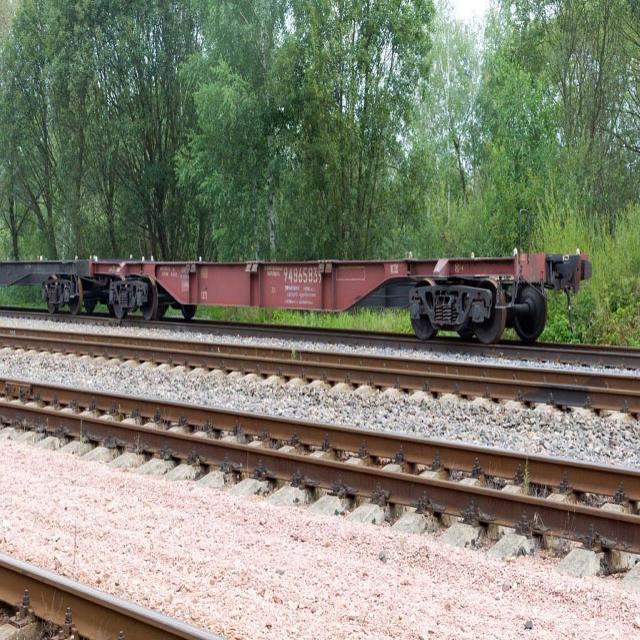flatcar: (90, 241, 588, 349), (0, 250, 88, 326)
